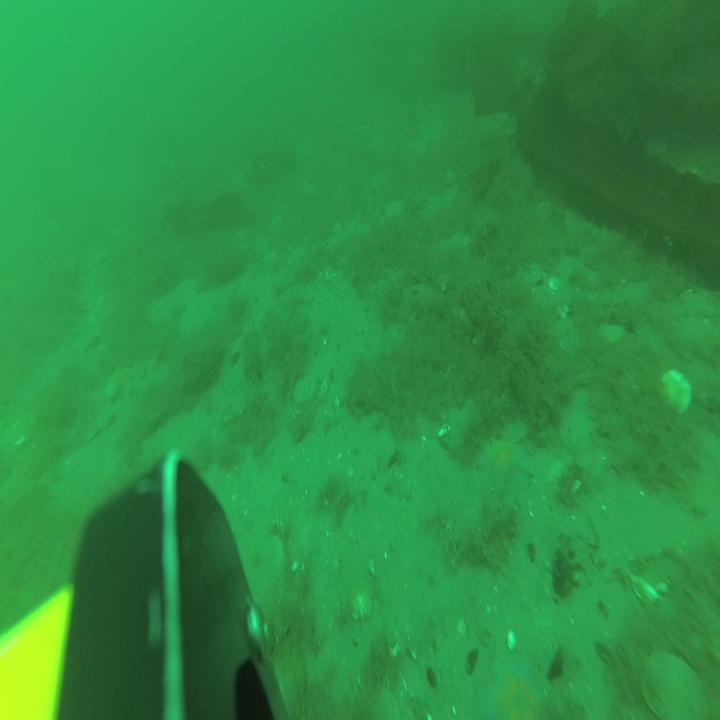scallop: (639, 646, 705, 720), (656, 365, 694, 420)
starfish: (477, 646, 544, 720), (477, 433, 532, 492)
